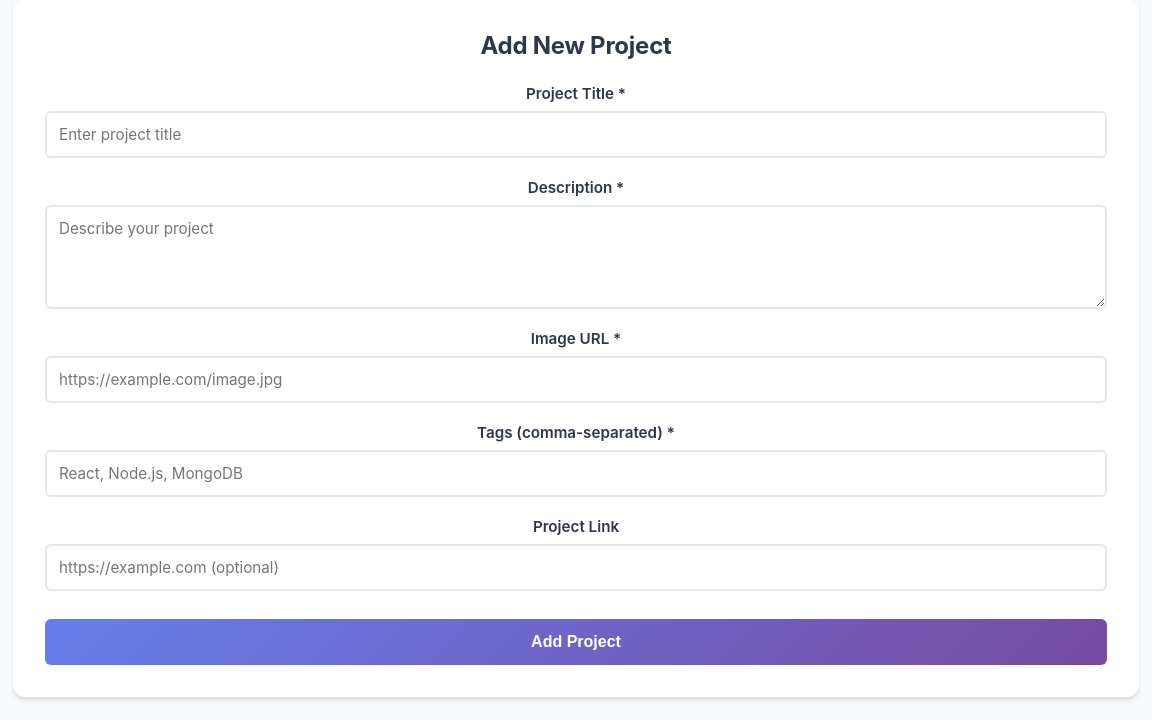
Scenario: ProjectForm Component › shows validation error for invalid image URL
Type "Test Project" into the field labelled "Project Title *" at (576, 135), box [45,111,1107,158]
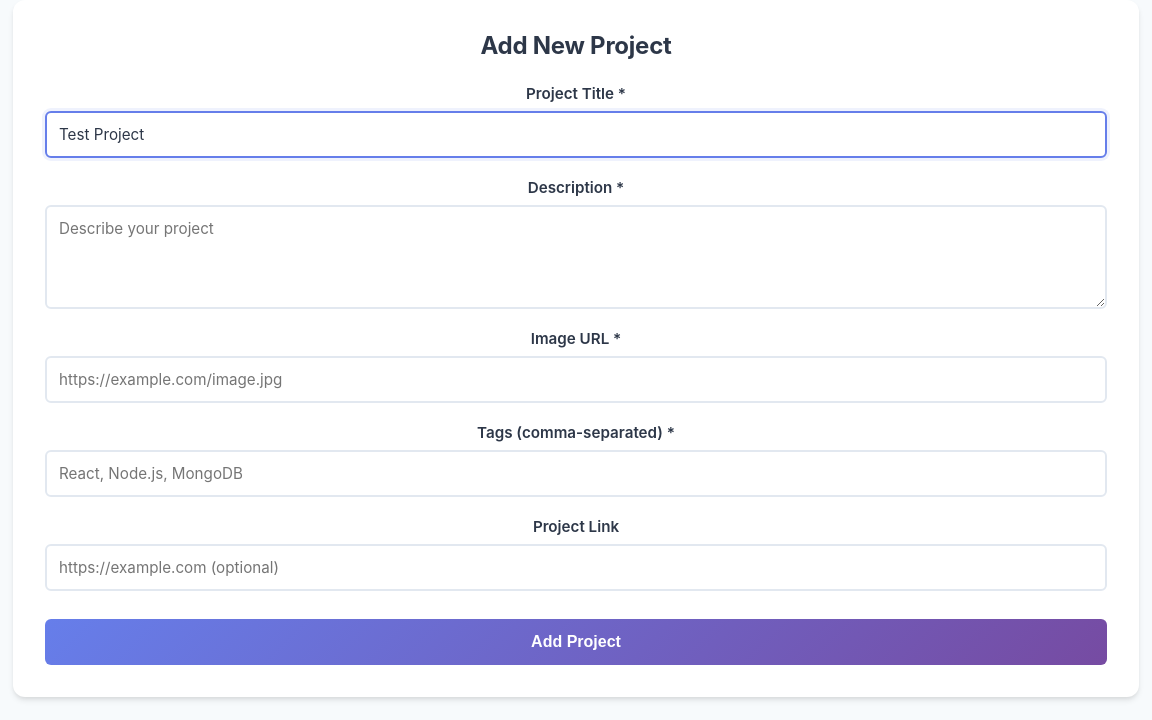
Type "Test Description" into the text box labelled "Description *" at (576, 257), box [45,205,1107,309]
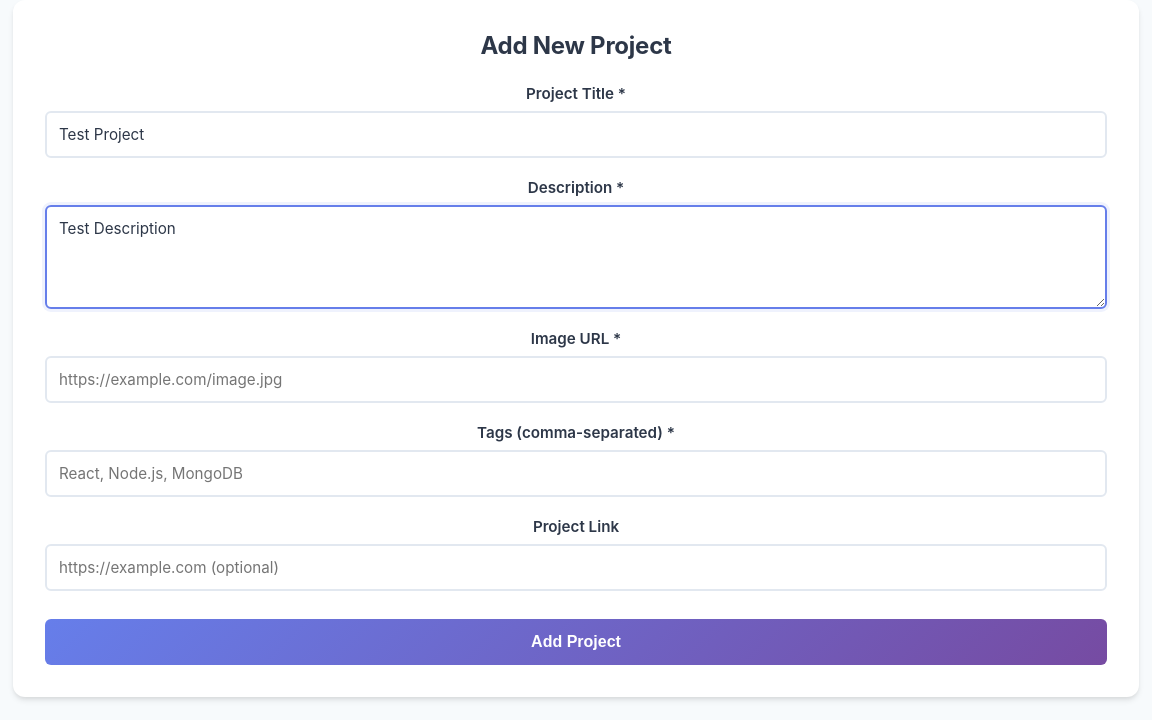
Type "not-a-valid-url" into the field labelled "Image URL *" at (576, 380), box [45,356,1107,403]
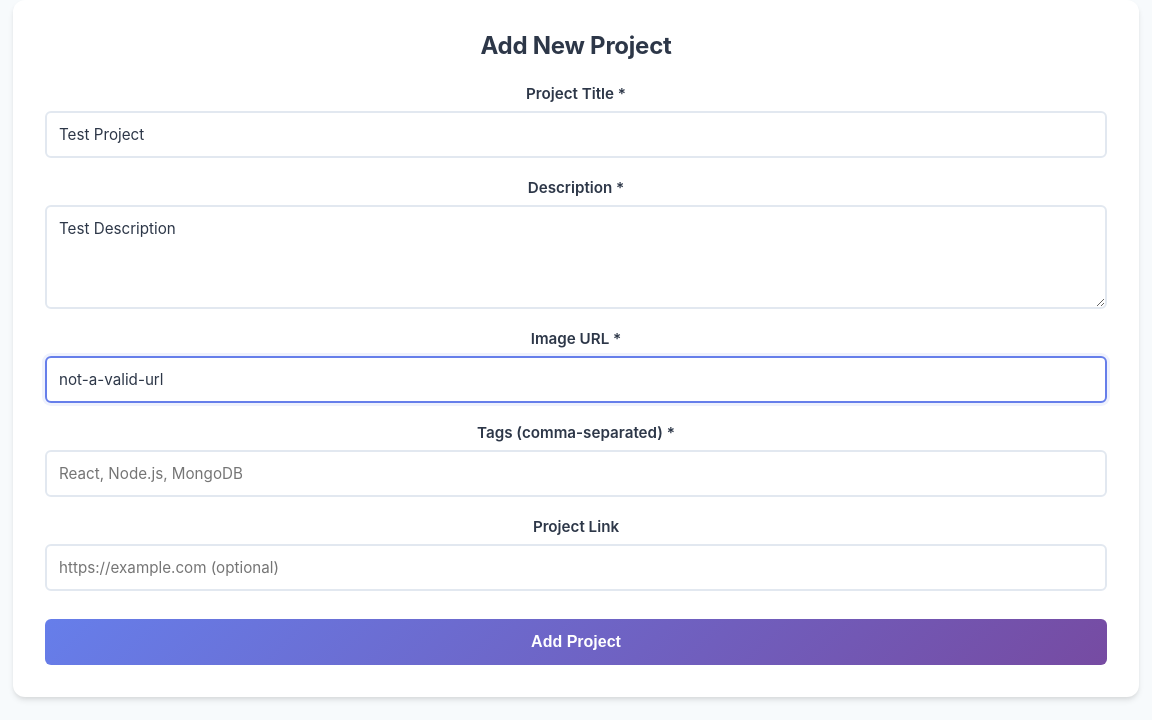
Type "React" into the field labelled "Tags (comma-separated) *" at (576, 474), box [45,450,1107,497]
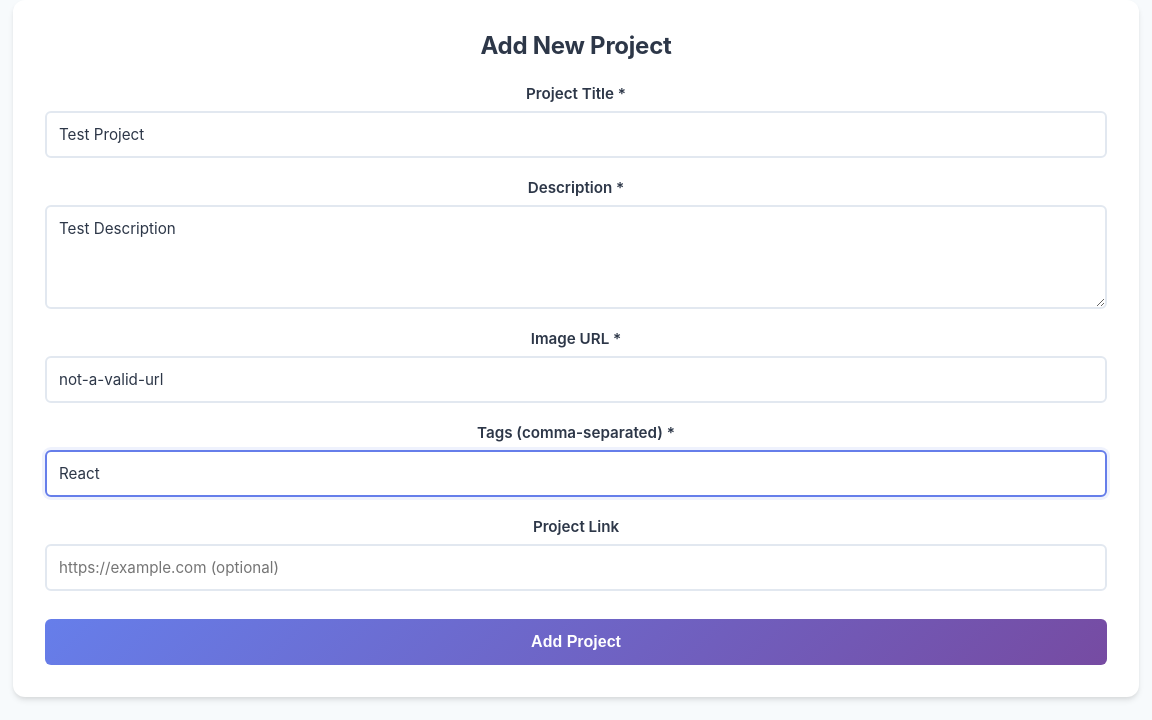
Click the button "Add Project" at (576, 642), box [45,619,1107,665]
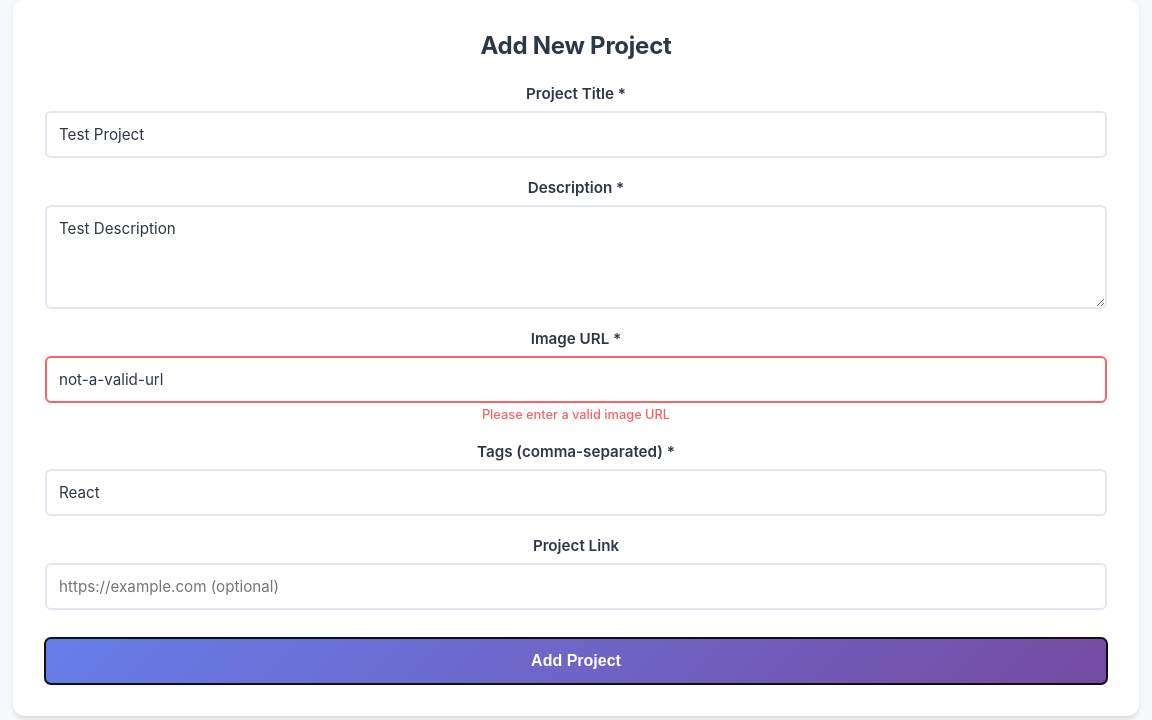
Check: the text "Please enter a valid image URL" is shown, box [482,407,670,422]
